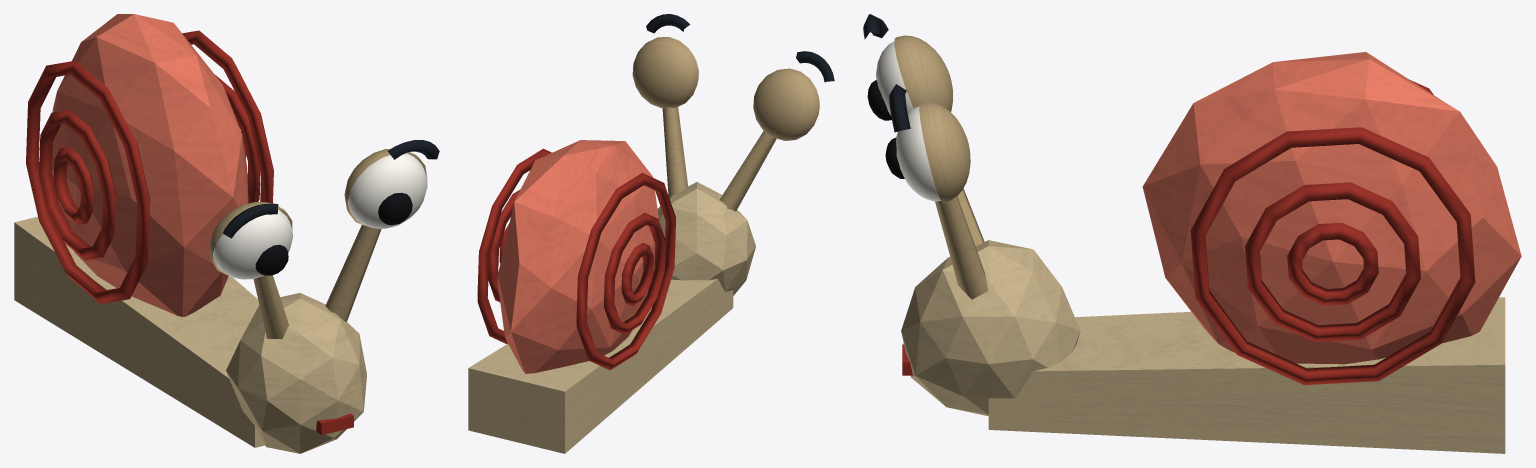
The model's file is snail.glb.
The picture shows the model from 3 angles, left to right: view 1: azimuth 30°, elevation 25°; view 2: azimuth 150°, elevation 25°; view 3: azimuth 270°, elevation 25°; orthographic projection. The views are drawn at different scales.
Parts seen in each view (by area): view 1: shell, body, head, stalkL, stalkR, jaw; view 2: shell, body, head, stalkR, stalkL; view 3: shell, body, head, stalkL, stalkR.
Part boxes in pixels (x1=…): shell: x1=26, y1=14, x2=273, y2=316; body: x1=14, y1=216, x2=264, y2=447; head: x1=226, y1=293, x2=366, y2=453; stalkL: x1=325, y1=140, x2=439, y2=321; stalkR: x1=210, y1=202, x2=292, y2=338; jaw: x1=316, y1=413, x2=353, y2=435; shell: x1=477, y1=140, x2=675, y2=373; body: x1=468, y1=279, x2=733, y2=453; head: x1=657, y1=182, x2=755, y2=295; stalkR: x1=719, y1=51, x2=834, y2=211; stalkL: x1=632, y1=14, x2=698, y2=197; shell: x1=1142, y1=52, x2=1521, y2=385; body: x1=988, y1=297, x2=1505, y2=453; head: x1=901, y1=240, x2=1080, y2=416; stalkL: x1=885, y1=84, x2=988, y2=299; stalkR: x1=863, y1=14, x2=984, y2=246.
Bounding box in the file's own units: 0.2436 × 0.3314 × 0.535.
Materials: 10 (7 with a texture image).
